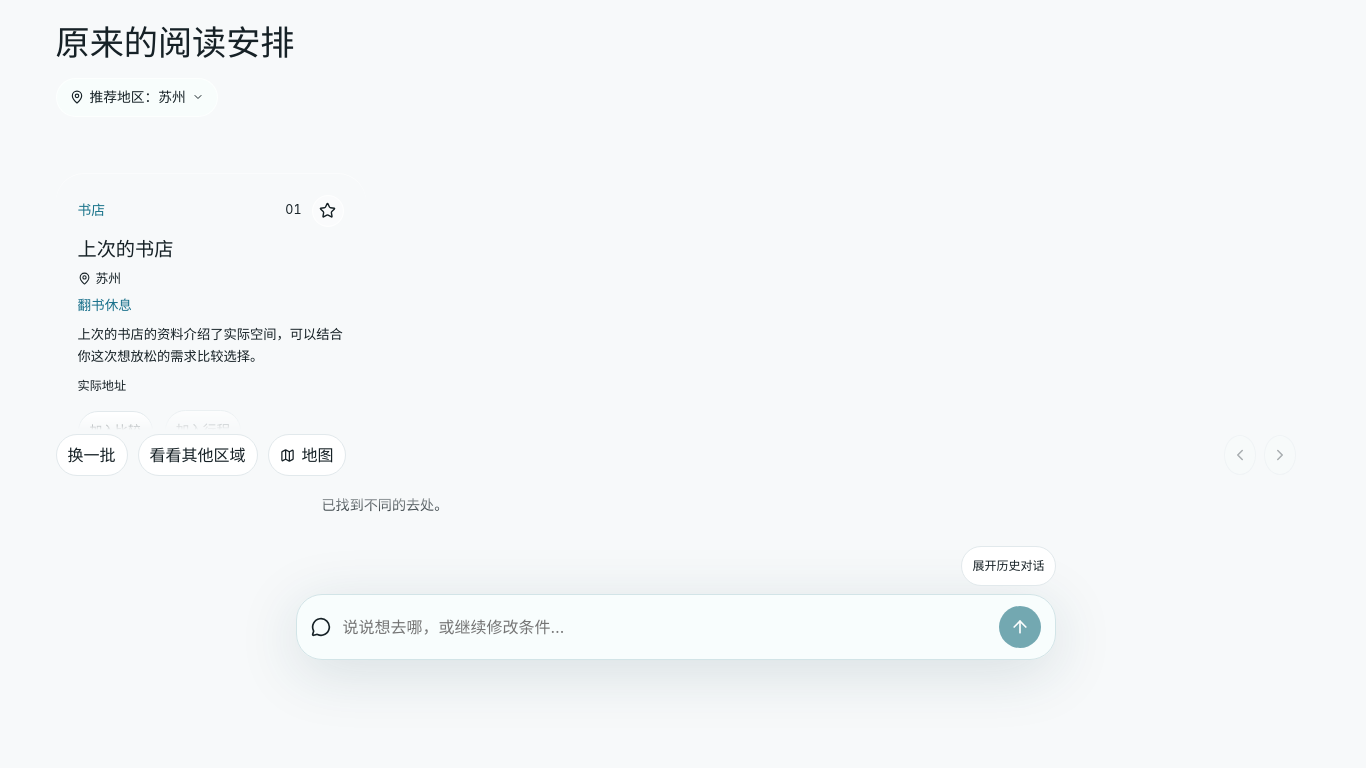
Test case: open-ended discovery › keeps usable cards while the next query is empty, then handles transport
The width and height of the screenshot is (1366, 768).
(page scrolled)
Type "杭州散步" into the text box named "继续补充条件".
click(664, 627); type("杭州散步")  # box [342,605,986,649]
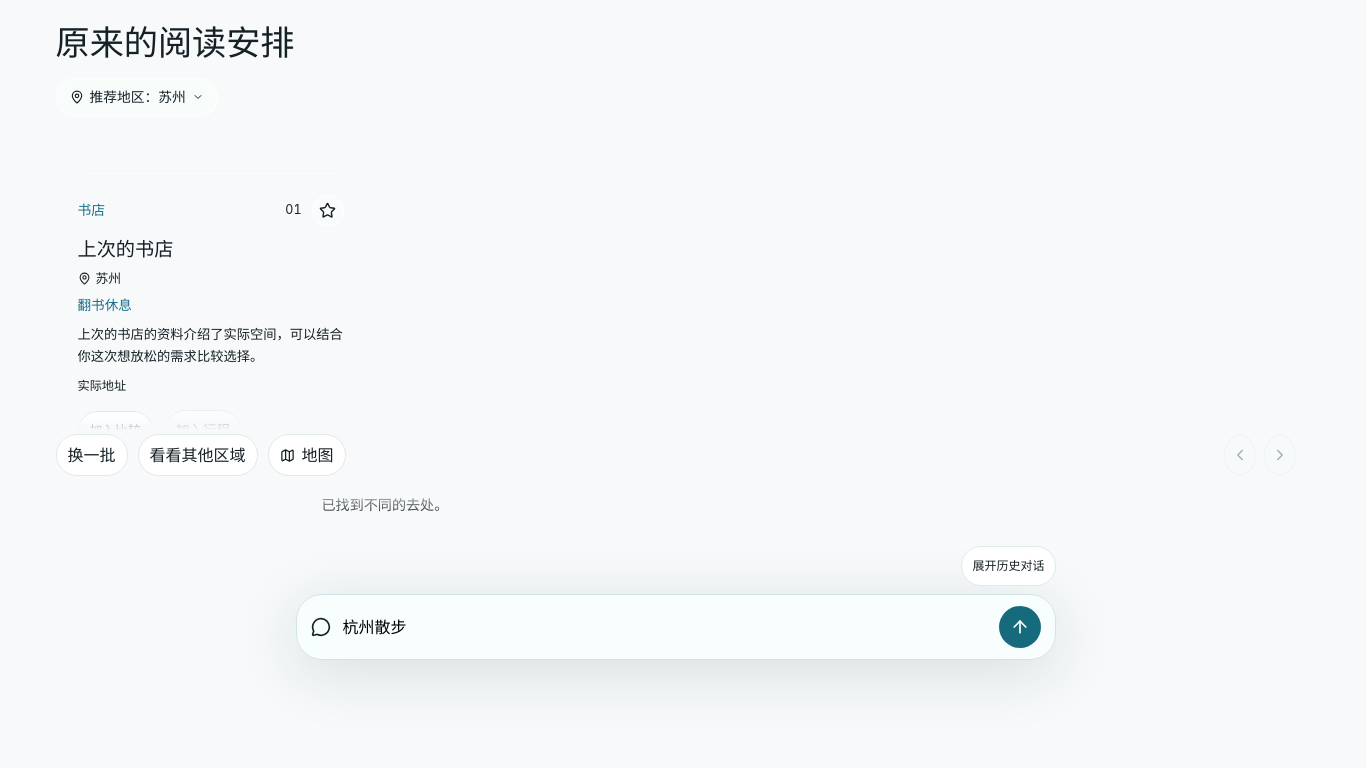
Press Enter
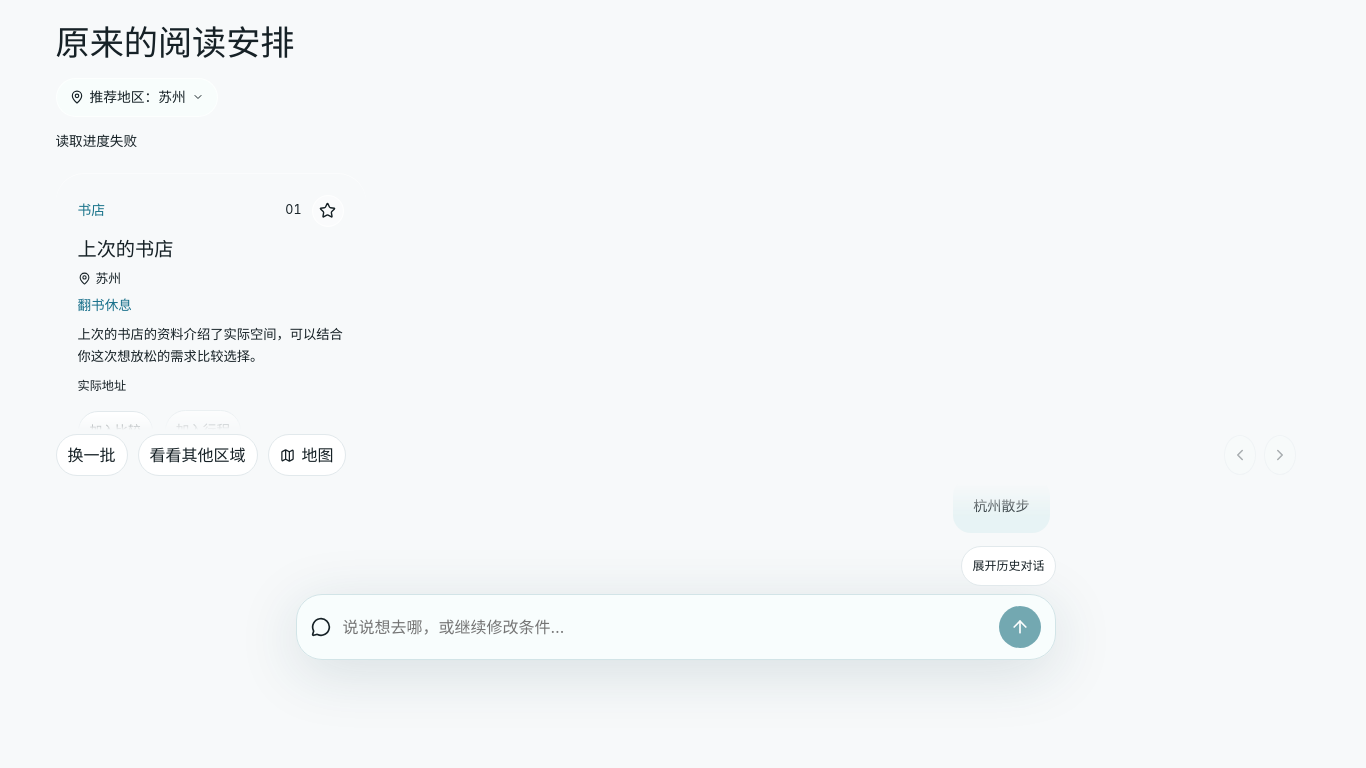
Expected: the heading "原来的阅读安排" is shown, [56,22,294,63]
Expected: the text "读取进度失败" is shown, [56,130,137,151]
